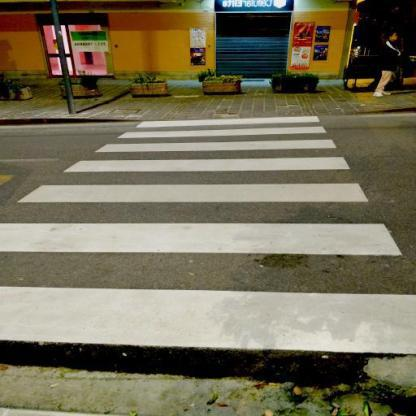crosswalk: (0, 214, 413, 360), (57, 136, 354, 176)
